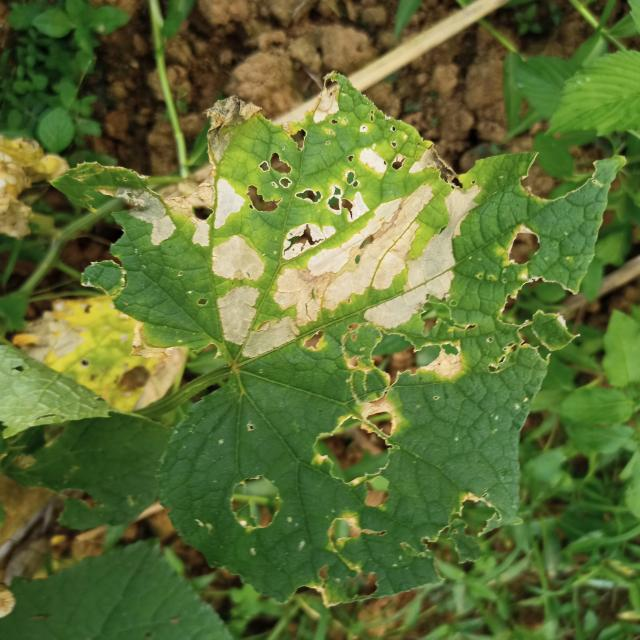disease_cucumber: (100, 98, 486, 374)
